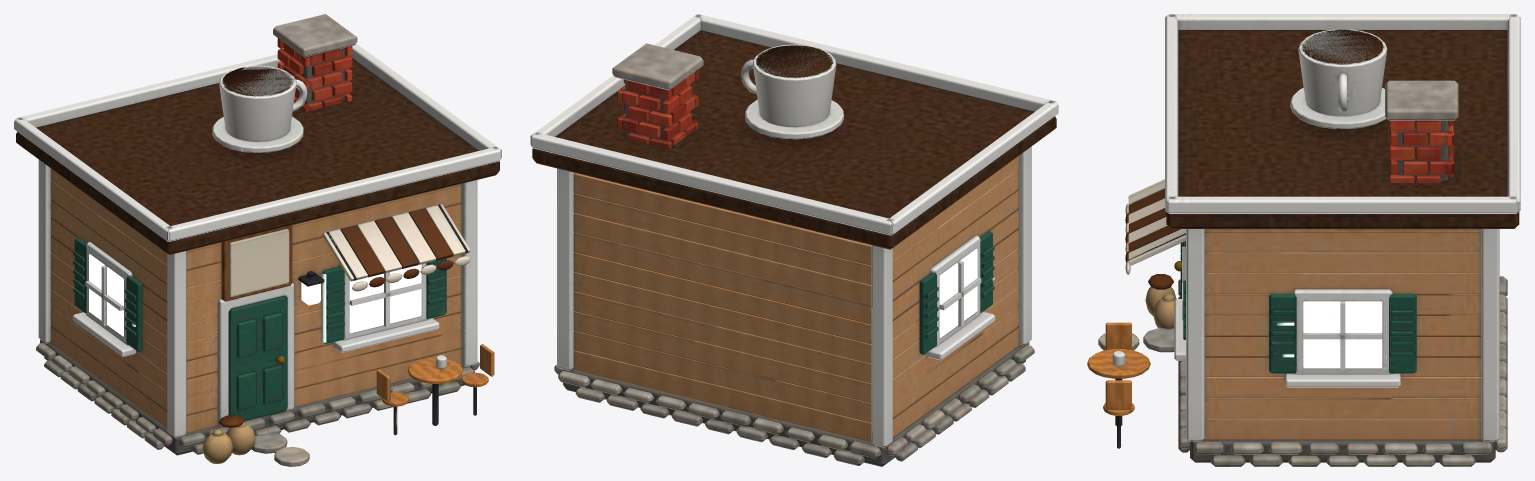
The model's file is coffee_kiosk.glb.
3 renders of one model, left to right at view 1: azimuth 30°, elevation 25°; view 2: azimuth 150°, elevation 25°; view 3: azimuth 270°, elevation 25°, orthographic. The views are drawn at different scales.
Visible parts, largest first — view 1: coffee_kiosk; view 2: coffee_kiosk; view 3: coffee_kiosk.
Part boxes in pixels (box(x1,y1,x2,y2)): coffee_kiosk: box(14, 14, 501, 466); coffee_kiosk: box(530, 14, 1058, 466); coffee_kiosk: box(1087, 14, 1520, 466).
Bounding box in the file's own units: 1.69 × 1.43 × 1.65.
Materials: 1 (1 with a texture image).
